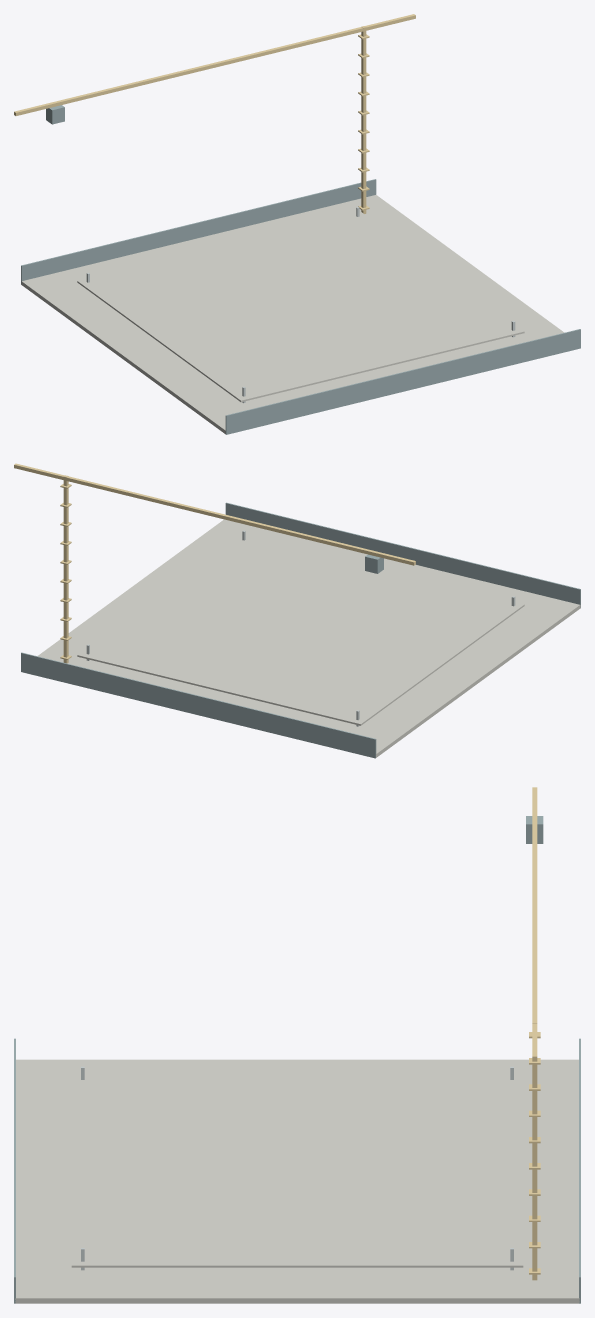
File: remaster_site_4_0.glb
3 views of the same model, one above another, from view 1: azimuth 30°, elevation 25°; view 2: azimuth 150°, elevation 25°; view 3: azimuth 270°, elevation 25° (orthographic). The views are drawn at different scales.
Visible parts, largest first — view 1: remaster_site_4_0 stone, remaster_site_4_0 roof, remaster_site_4_0 gold; view 2: remaster_site_4_0 stone, remaster_site_4_0 roof, remaster_site_4_0 gold; view 3: remaster_site_4_0 stone, remaster_site_4_0 gold, remaster_site_4_0 roof.
Part boxes in pixels (x1,y1,x2,y2): remaster_site_4_0 stone: (21,195,563,433); remaster_site_4_0 roof: (21,105,580,434); remaster_site_4_0 gold: (14,14,415,213); remaster_site_4_0 stone: (37,519,580,757); remaster_site_4_0 roof: (21,502,580,758); remaster_site_4_0 gold: (14,463,415,663); remaster_site_4_0 stone: (15,1059,579,1303); remaster_site_4_0 gold: (529,787,540,1280); remaster_site_4_0 roof: (14,816,580,1303).
Bounding box in the file's own units: 44 × 20 × 39.14.
